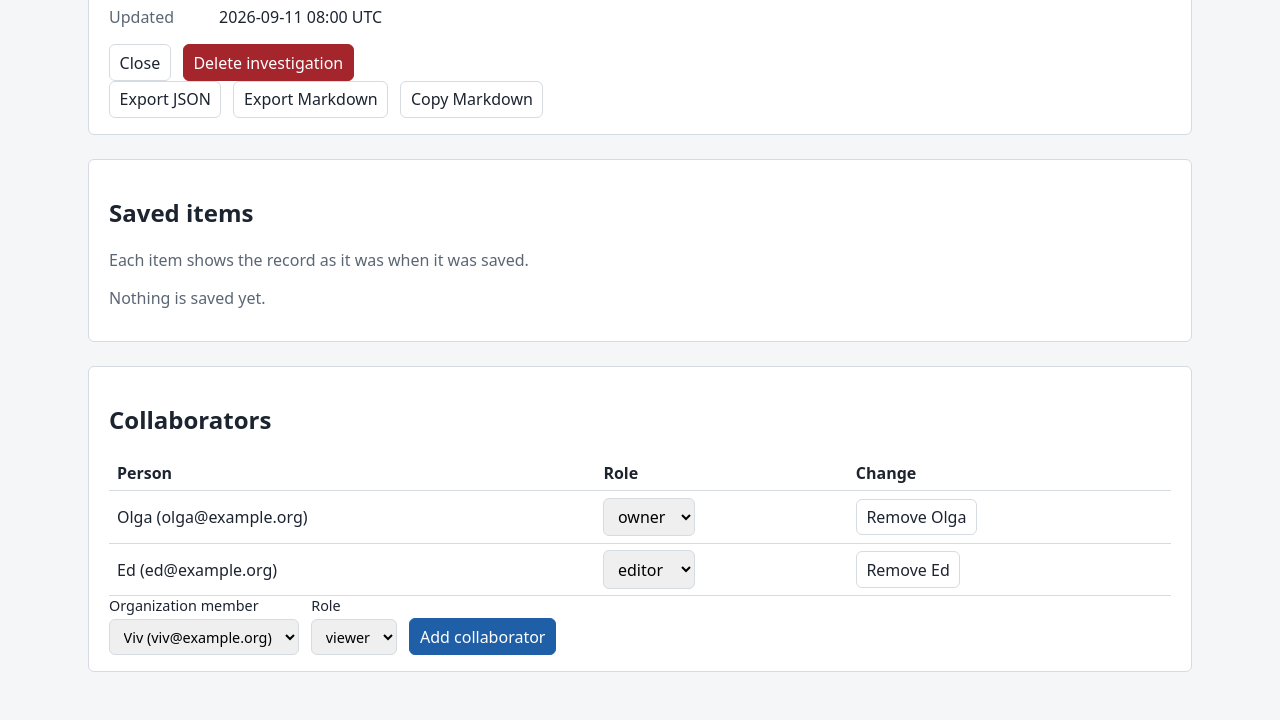
Test: investigation collaborators › adds an organization member who is not a collaborator yet
The image size is (1280, 720).
(page scrolled)
Expected: the text "Olga (olga@example.org)" is shown, [109,491,595,543]
Select "editor" in the dropdown labelled "Role" at (354, 637), box [311,619,397,655]
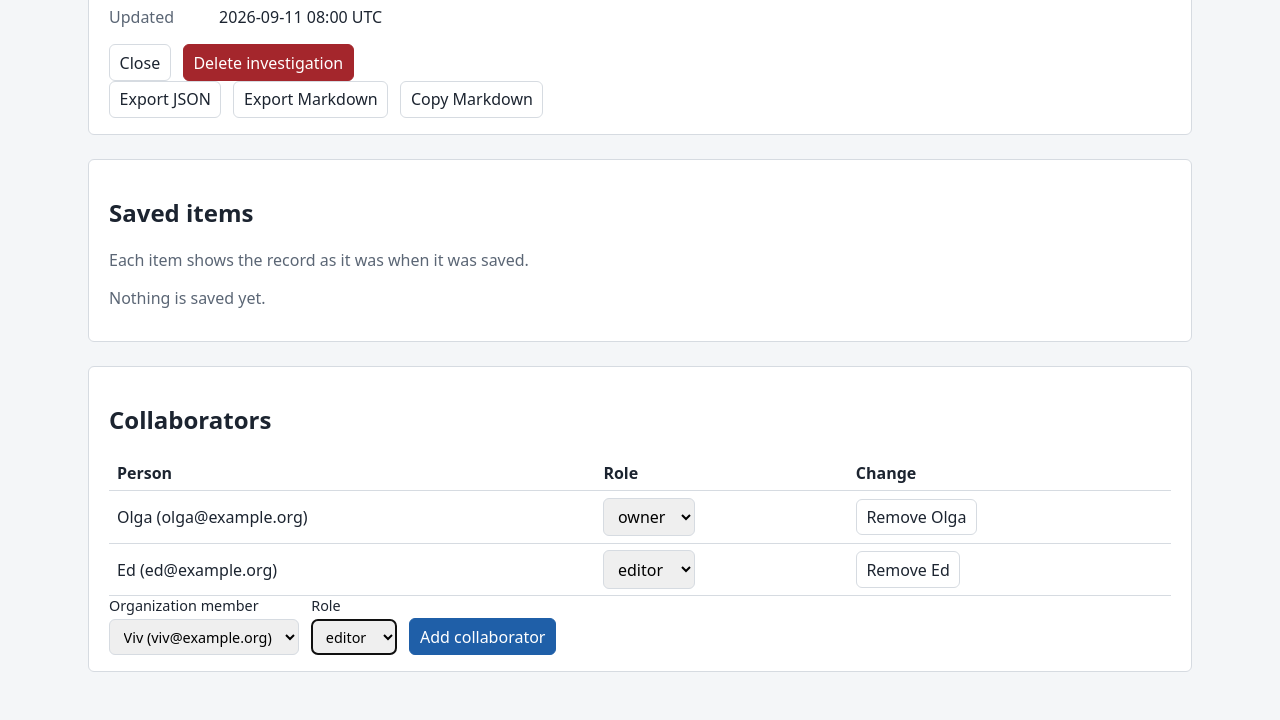
Click the button "Add collaborator".
click(483, 637)  # box [409,618,556,655]
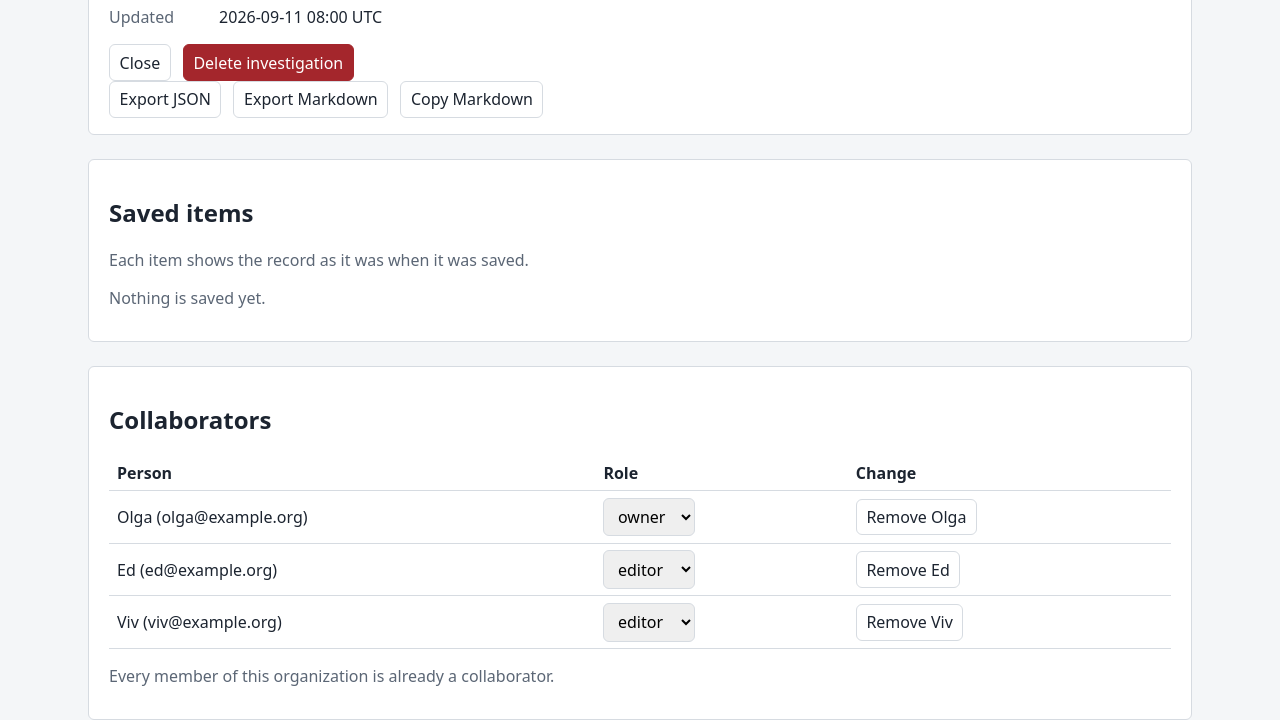
Expected: the dropdown named "Role of Viv" shows "editor", [603,603,695,642]
